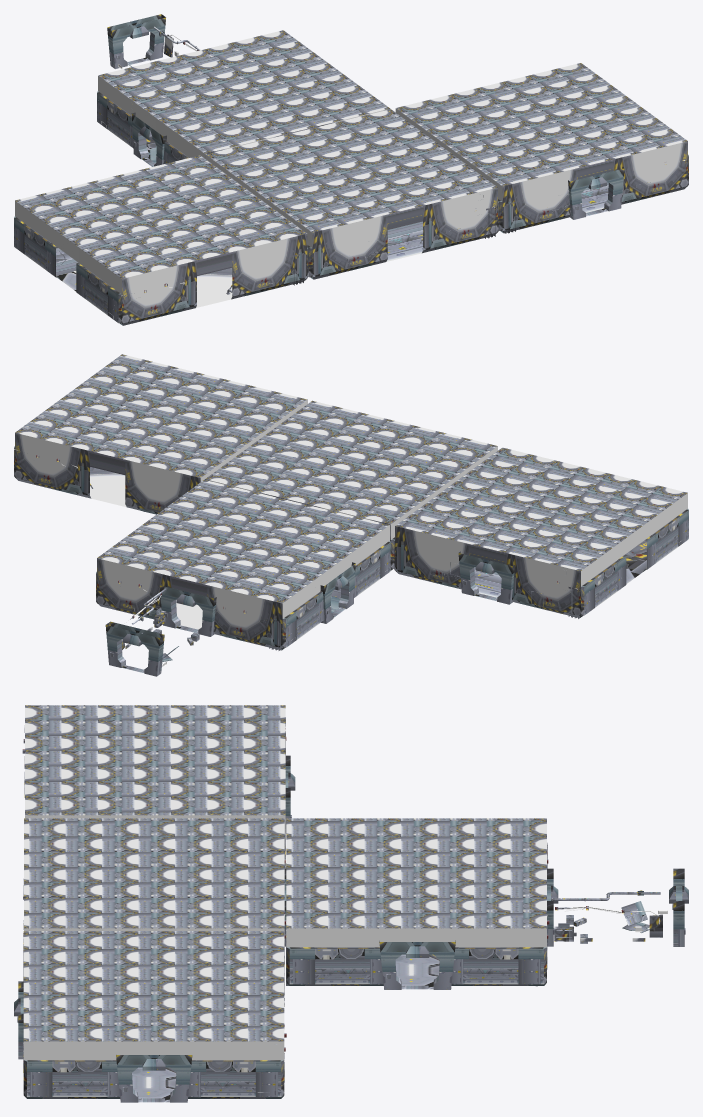
Rendered from Combined_Mesh_root_scene__10_7ad9d44b__ZombiesII_laboratory_07_d_a6872bb1_c1f257_part002.obj.
The picture shows the model from 3 angles, top to bottom: view 1: azimuth 30°, elevation 25°; view 2: azimuth 150°, elevation 25°; view 3: azimuth 270°, elevation 25°; orthographic projection. The views are drawn at different scales.
Size of the model in its own units: 124 by 10.21 by 104.
Materials: 261 (261 with a texture image).
